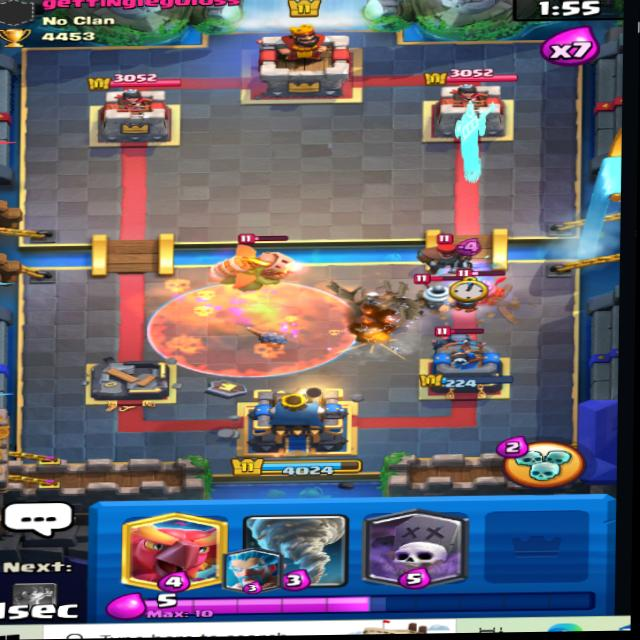hunter: (417, 220, 484, 271)
inferno-dragon: (228, 236, 293, 293)
mini-pekka: (423, 325, 493, 353)
zappie: (410, 271, 468, 308), (453, 272, 512, 301)
